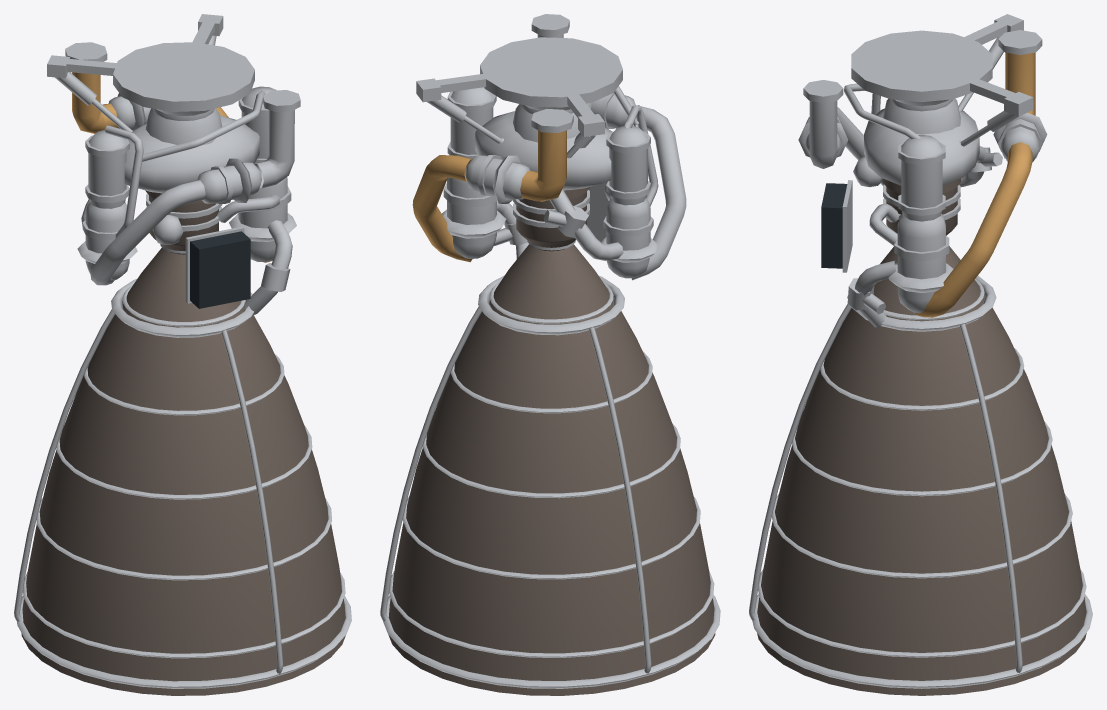
Rendered from eng_hydrolox_high_efficiency.glb.
3 renders of one model, left to right at view 1: azimuth 30°, elevation 25°; view 2: azimuth 150°, elevation 25°; view 3: azimuth 270°, elevation 25°, orthographic.
Visible parts, largest first — view 1: eng_hydrolox_high_efficiency_mesh; view 2: eng_hydrolox_high_efficiency_mesh; view 3: eng_hydrolox_high_efficiency_mesh.
Part boxes in pixels (x1,y1,x2,y2): eng_hydrolox_high_efficiency_mesh: (14, 14, 351, 695); eng_hydrolox_high_efficiency_mesh: (380, 14, 720, 695); eng_hydrolox_high_efficiency_mesh: (749, 14, 1092, 695).
Bounding box in the file's own units: 2.36 × 4.3 × 2.37.
